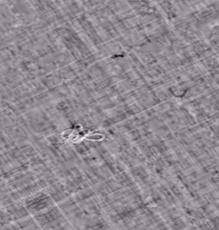snag: (56, 122, 113, 150)
